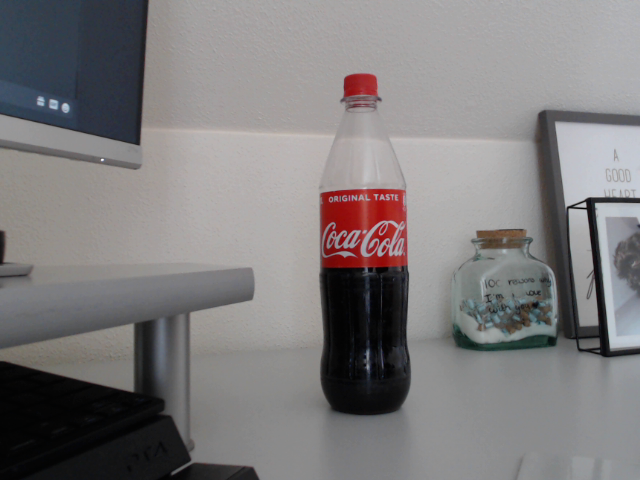bottle: (319, 74, 412, 417)
